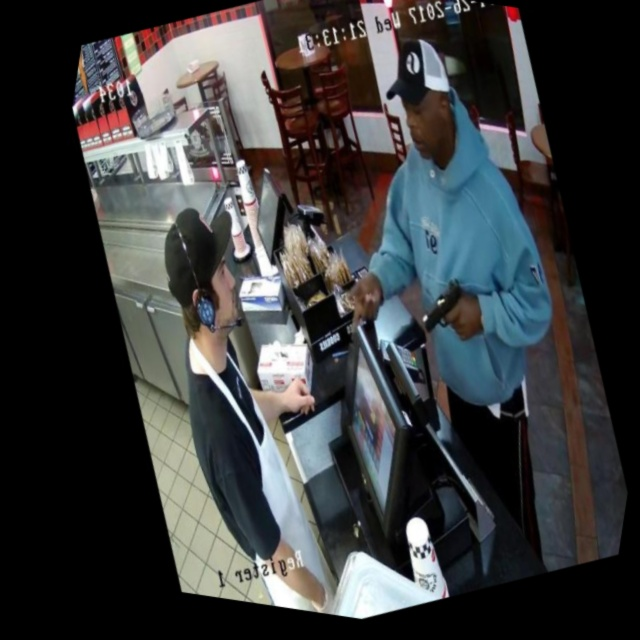gun: (390, 246, 504, 364)
